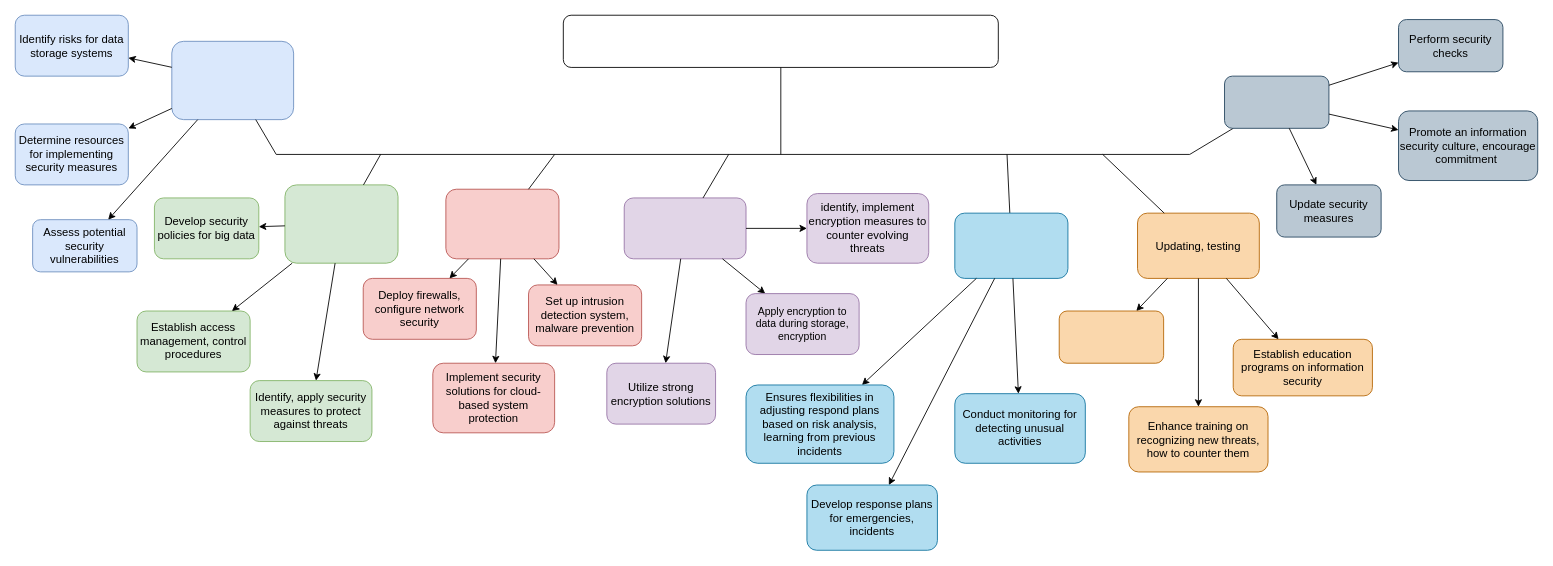
Image size: 1553x566. Some labels were removed from this diagram. The shapes that lost their labels are listed below. From the top down, each one's centre as x and y in pixels, then its label:
At point 780,40: "Cyber security risks involved in local, cloud based big data storage systems".
At point 232,80: "Risk assessment, resource evaluation".
At point 1276,101: "Data encryption".
At point 341,223: "Policy, procedure development".
At point 502,223: "System, network security".
At point 684,228: "Response, monitoring".
At point 1011,245: "Employees training".
At point 1111,336: "Provide security training".
